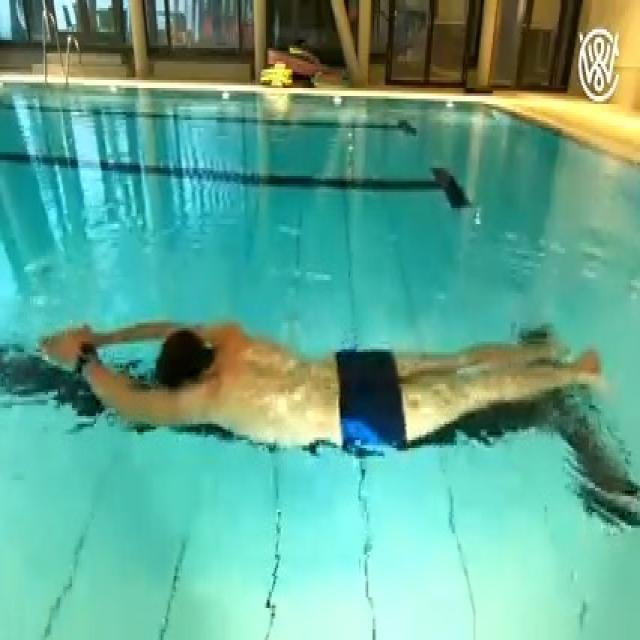Swimming: (36, 303, 594, 456)
